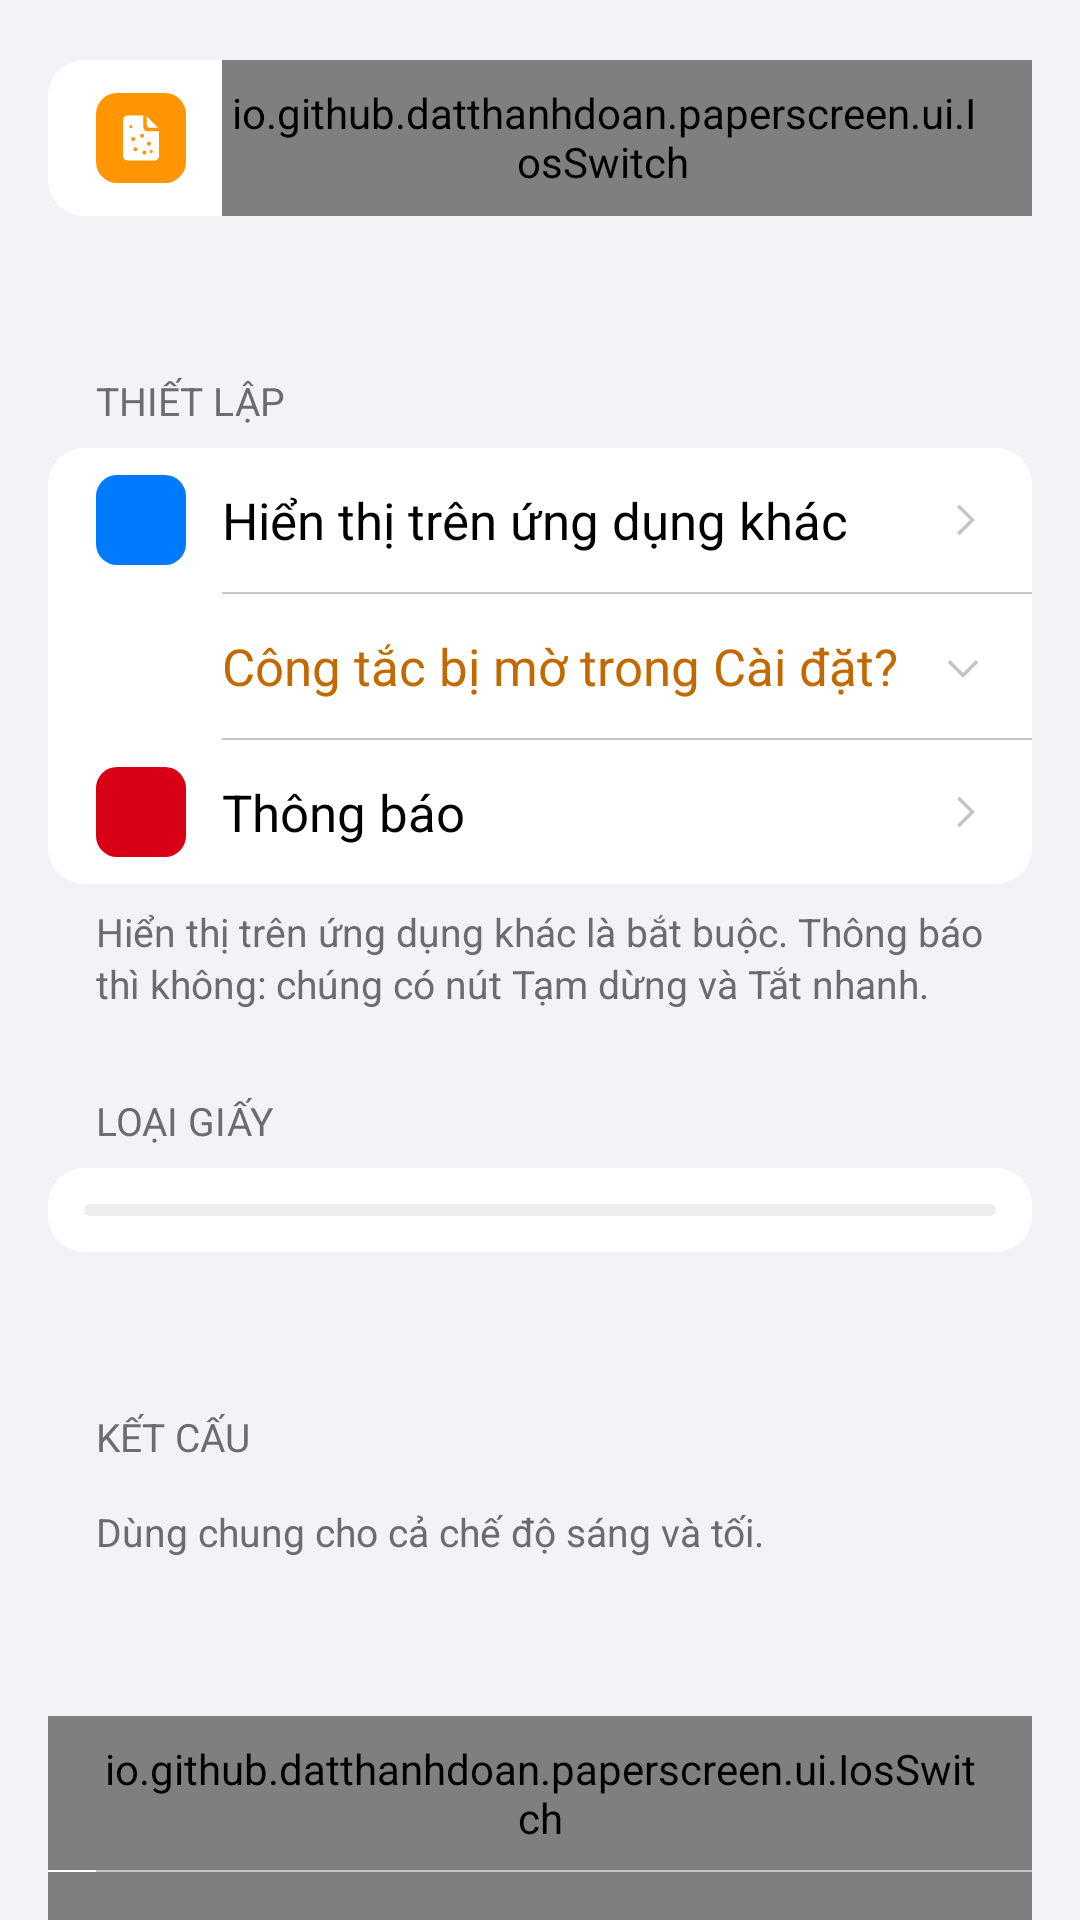

Icon bounding boxes for this 1080px×1920px phone screenshot, format (x1, y1, x2, y2):
chevron down: (948, 660, 978, 677)
